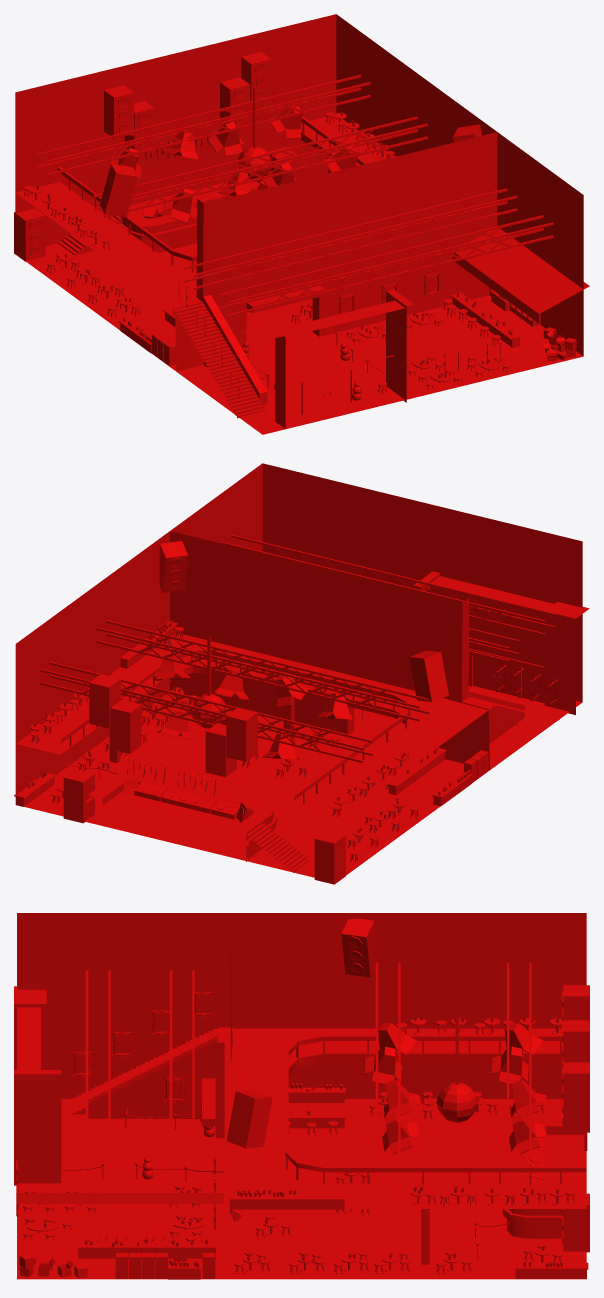
Rendered from Individual_PoomPoomPalace_02.glb.
The picture shows the model from 3 angles, top to bottom: view 1: azimuth 30°, elevation 25°; view 2: azimuth 150°, elevation 25°; view 3: azimuth 270°, elevation 25°; orthographic projection. The views are drawn at different scales.
Parts seen in each view (by area): view 1: polySurface7, pCube55, pCube95, pCube109, pCube108, pasted__Object_Box8, pCube120, pCube4, pasted__Object_Box24, pCube111, pCube107, pCube104 (+11 smaller); view 2: polySurface7, pCube95, pCube55, pCube4, pasted__Object_Box25, pCube109, pCube107, pCube104, pCube10, pCube111, pCube113, pCube106 (+11 smaller); view 3: polySurface7, pCube95, pasted__Object_Box26, pasted__Object_Box24, pCube4, pCube55, pasted__Object_Box8, pCube106, pCube107, pCube105, pCube120, pCube108 (+23 smaller).
Part boxes in pixels (bbox=[...]): polySurface7: bbox=[15, 14, 583, 434]; pCube55: bbox=[36, 75, 427, 217]; pCube95: bbox=[15, 116, 392, 314]; pCube109: bbox=[219, 215, 553, 316]; pCube108: bbox=[183, 188, 517, 289]; pasted__Object_Box8: bbox=[452, 228, 589, 323]; pCube120: bbox=[173, 303, 265, 418]; pCube4: bbox=[119, 171, 271, 252]; pasted__Object_Box24: bbox=[386, 289, 413, 402]; pCube111: bbox=[14, 208, 45, 261]; pCube107: bbox=[100, 164, 137, 217]; pCube104: bbox=[104, 85, 133, 138]; polySurface7: bbox=[15, 463, 582, 877]; pCube95: bbox=[16, 633, 492, 821]; pCube55: bbox=[39, 620, 429, 762]; pCube4: bbox=[85, 772, 276, 861]; pasted__Object_Box25: bbox=[544, 602, 589, 714]; pCube109: bbox=[222, 535, 555, 635]; pCube107: bbox=[409, 650, 448, 701]; pCube104: bbox=[226, 707, 257, 761]; pCube10: bbox=[110, 699, 141, 753]; pCube111: bbox=[314, 830, 345, 884]; pCube113: bbox=[63, 769, 94, 823]; pCube106: bbox=[159, 541, 188, 592]; polySurface7: bbox=[17, 913, 586, 1279]; pCube95: bbox=[224, 1028, 586, 1208]; pasted__Object_Box26: bbox=[88, 1036, 217, 1118]; pasted__Object_Box24: bbox=[14, 1070, 61, 1185]; pCube4: bbox=[502, 1118, 586, 1238]; pCube55: bbox=[375, 962, 531, 1158]; pasted__Object_Box8: bbox=[17, 1193, 223, 1203]; pCube106: bbox=[226, 1089, 272, 1148]; pCube107: bbox=[341, 918, 375, 977]; pCube105: bbox=[562, 1062, 589, 1120]; pCube120: bbox=[72, 1028, 218, 1114]; pCube108: bbox=[169, 970, 194, 1166].
Size of the model in its own units: 25.69 by 11.06 by 30.65.
